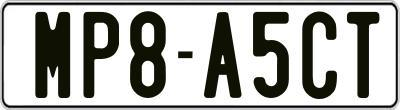5: (251, 10, 293, 97)
8: (130, 10, 166, 101)
A: (202, 11, 239, 97)
C: (302, 10, 338, 98)
M: (35, 11, 72, 102)
P: (81, 12, 121, 103)
T: (347, 9, 385, 98)
